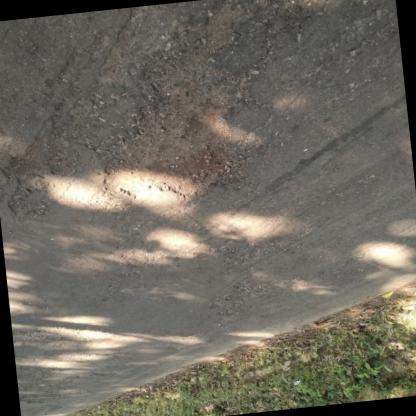pothole: (91, 43, 255, 211)
